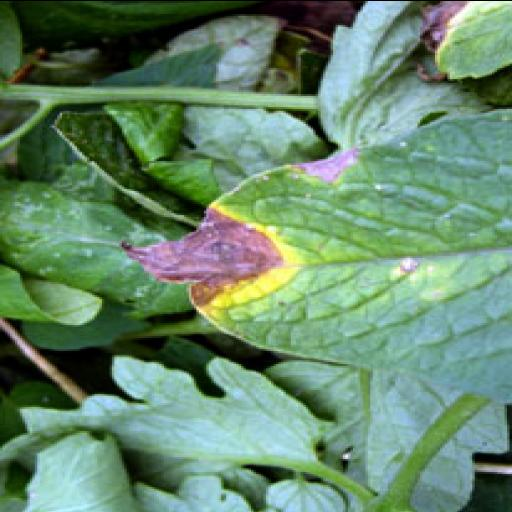Early Blight: (114, 95, 512, 406)
